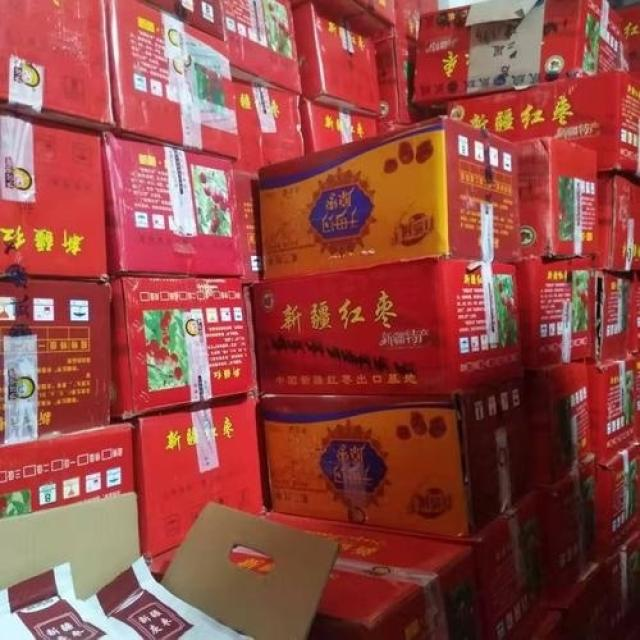box: (1, 491, 340, 638), (260, 376, 538, 533), (259, 116, 521, 281), (249, 256, 525, 396), (256, 507, 484, 638), (412, 0, 627, 111), (446, 67, 639, 184), (107, 2, 243, 160), (101, 132, 242, 278), (135, 395, 264, 554), (109, 276, 252, 419), (0, 275, 111, 444), (1, 109, 106, 277), (0, 1, 117, 134), (1, 421, 134, 519), (470, 486, 547, 639), (293, 1, 380, 115), (520, 138, 597, 261), (518, 256, 599, 367), (527, 360, 598, 485), (539, 457, 597, 601), (222, 3, 304, 95), (230, 78, 304, 173), (594, 436, 639, 562), (594, 353, 639, 461), (302, 93, 380, 152), (595, 172, 639, 275), (599, 524, 638, 639), (549, 563, 608, 639), (596, 267, 639, 359), (231, 165, 263, 283), (379, 24, 415, 124), (146, 1, 227, 42), (519, 601, 570, 639), (342, 1, 395, 33), (144, 542, 183, 585), (618, 1, 639, 77), (395, 1, 421, 41), (612, 612, 638, 637), (380, 116, 410, 130)
